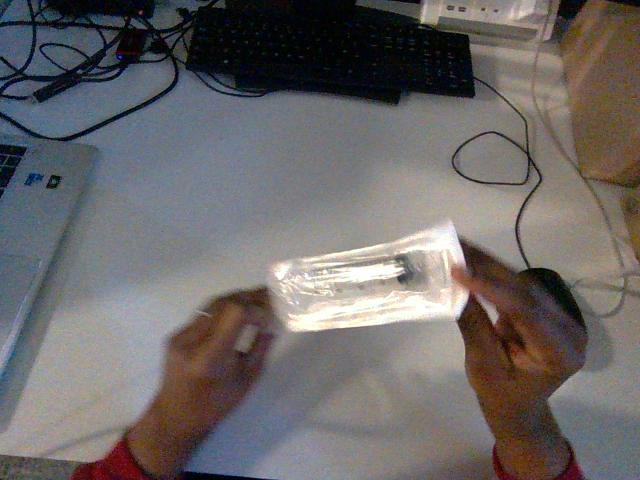syringe: (267, 222, 467, 330)
